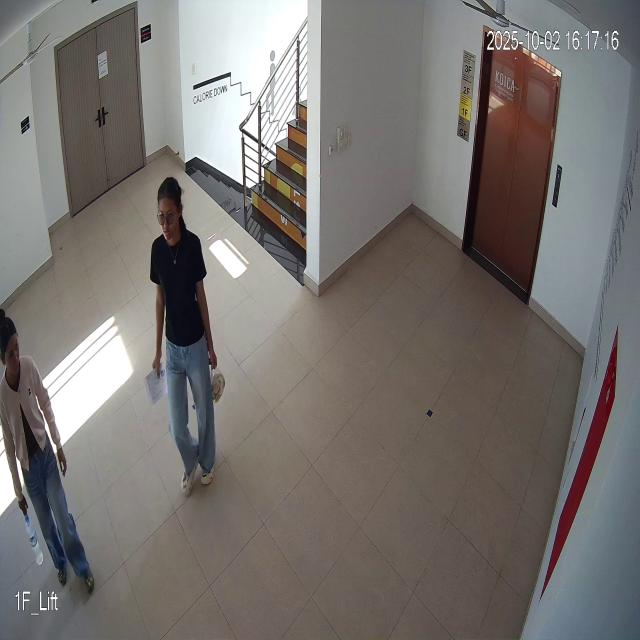face: (156, 172, 186, 247)
